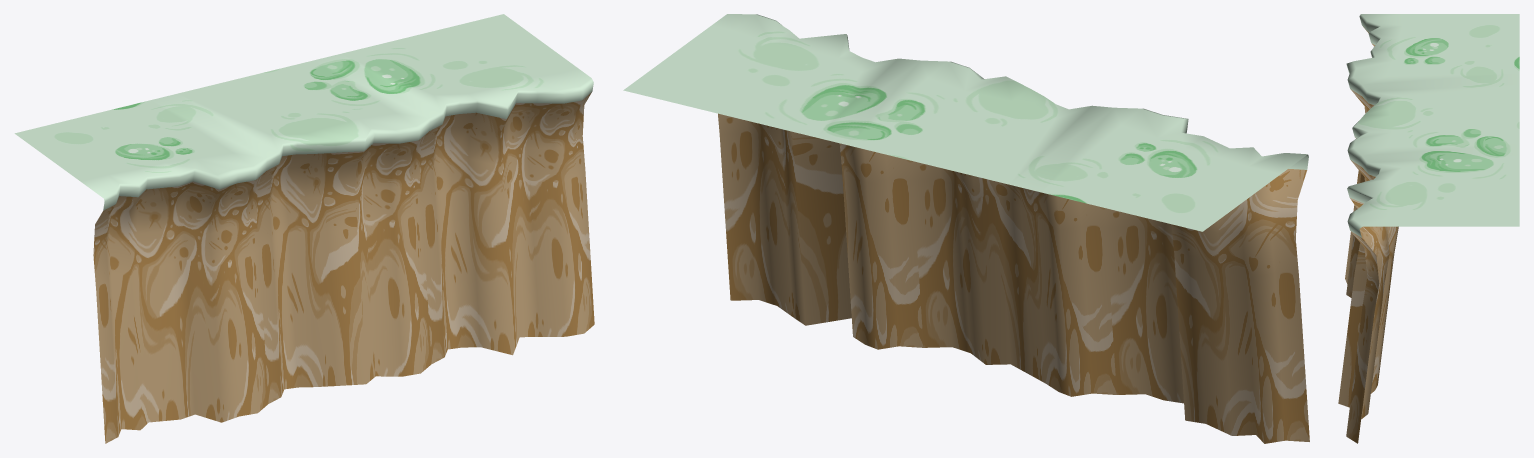
File: SM_tille_long_01.fbx
3 renders of one model, left to right at view 1: azimuth 30°, elevation 25°; view 2: azimuth 150°, elevation 25°; view 3: azimuth 270°, elevation 25°, orthographic. The views are drawn at different scales.
Visible parts, largest first — view 1: SM_tille_long_01; view 2: SM_tille_long_01; view 3: SM_tille_long_01.
Part boxes in pixels (box(x1,y1,x2,y2)): SM_tille_long_01: box(14, 14, 594, 443); SM_tille_long_01: box(623, 14, 1309, 443); SM_tille_long_01: box(1338, 14, 1519, 443).
Size of the model in its own units: 3655 by 1743 by 1318.
